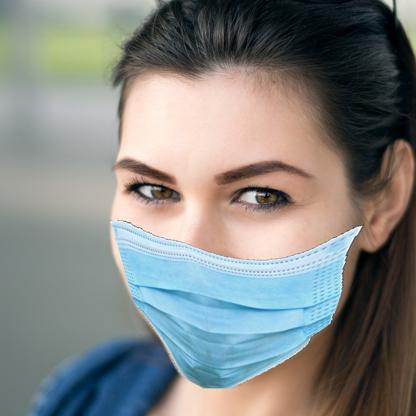mask: (110, 217, 364, 392)
